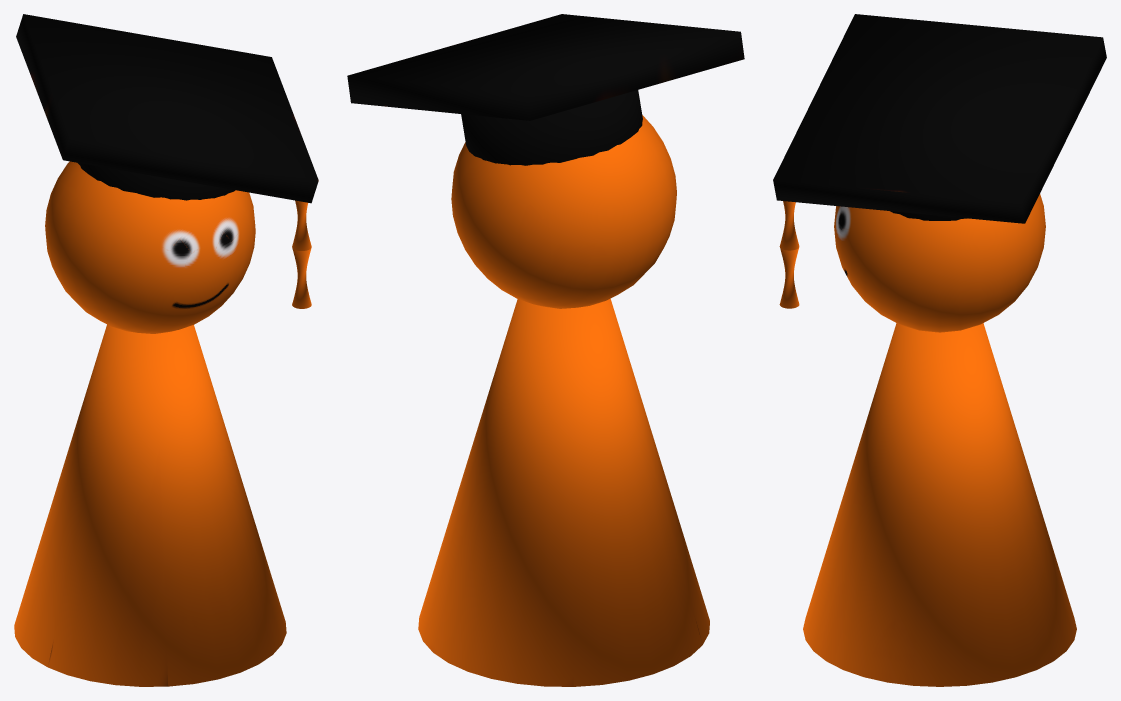
Rendered from tutorial.fbx.
3 renders of one model, left to right at view 1: azimuth 30°, elevation 25°; view 2: azimuth 150°, elevation 25°; view 3: azimuth 270°, elevation 25°, orthographic. The views are drawn at different scales.
Visible parts, largest first — view 1: Cylinder; view 2: Cylinder; view 3: Cylinder.
Boxes of the visible parts, <box> form: Cylinder: <box>14,14,318,686</box>; Cylinder: <box>347,14,744,686</box>; Cylinder: <box>773,14,1106,686</box>.
Bounding box in the file's own units: 1.36 × 2.55 × 1.35.
Materials: 1 (1 with a texture image).
